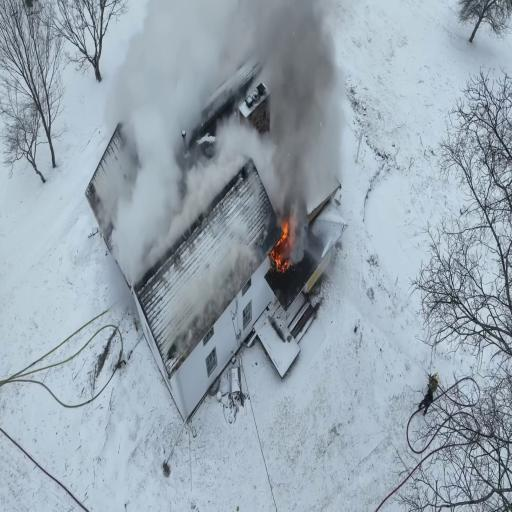fire: (270, 210, 296, 265)
smoke: (272, 0, 322, 177), (185, 4, 306, 74)
